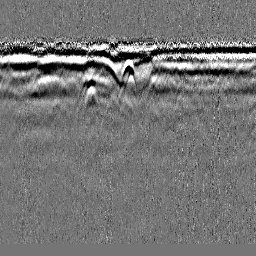cavity: (120, 59, 137, 90)
